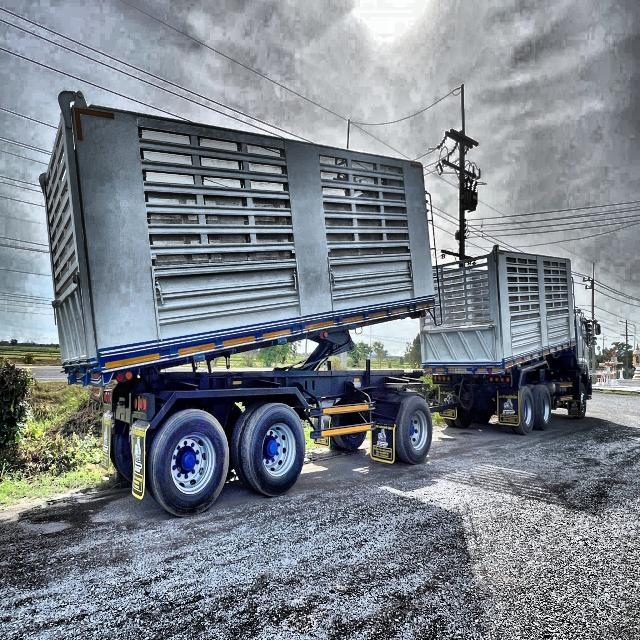trailer: (36, 90, 594, 516)
